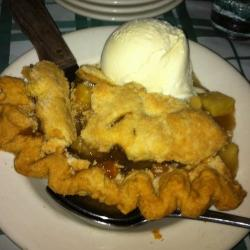apple_pie: (3, 70, 242, 216)
icecream: (98, 16, 205, 106)
